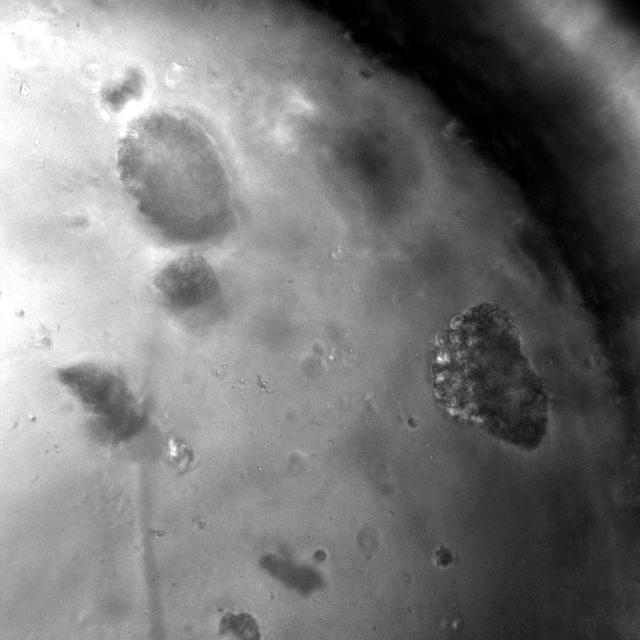organoid: (432, 303, 549, 449), (118, 111, 230, 241), (57, 362, 147, 444), (155, 251, 219, 307), (259, 554, 324, 594), (100, 66, 146, 113), (219, 612, 259, 639), (433, 544, 458, 569)
